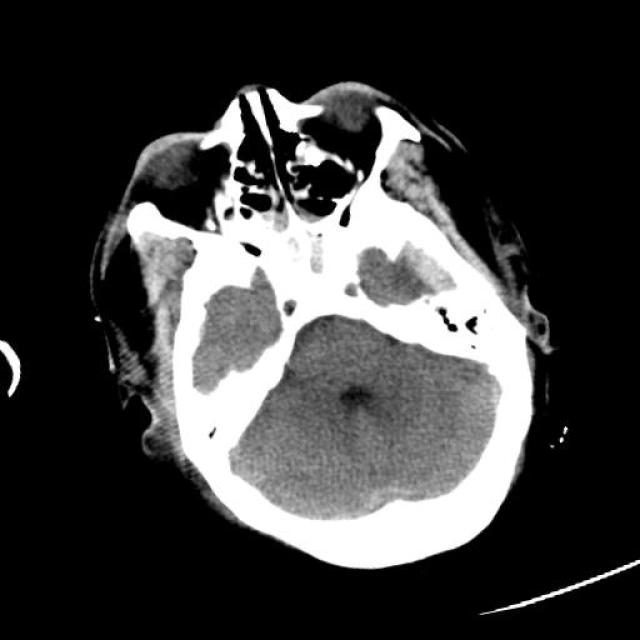Subdural: (384, 226, 467, 313)
